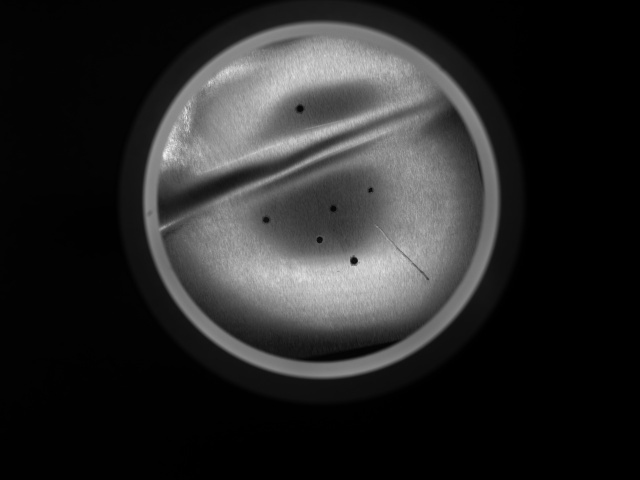ca_shang: (382, 229, 442, 291)
zhe_zhou: (169, 91, 453, 222)
zhen_kong: (359, 175, 384, 206), (317, 197, 347, 222), (254, 207, 281, 233), (342, 249, 367, 277), (309, 226, 334, 253), (289, 96, 313, 124)
